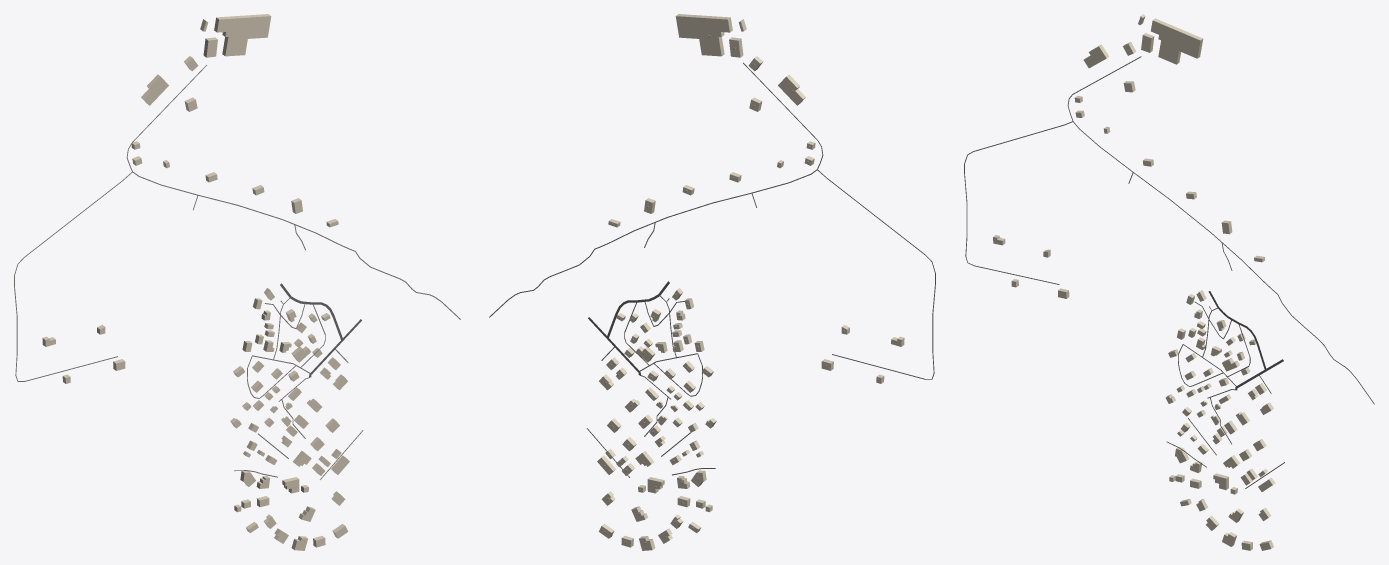
File: historic-palestine-13_34_3550_3289.glb
The picture shows the model from 3 angles, left to right: view 1: azimuth 30°, elevation 25°; view 2: azimuth 150°, elevation 25°; view 3: azimuth 330°, elevation 25°; orthographic projection. The views are drawn at different scales.
Parts seen in each view (by area): view 1: Building_.078, Road .003; view 2: Building_.078, Road .003; view 3: Building_.078, Road .003.
Part boxes in pixels (box(x1,y1,x2,y2)): Building_.078: box(214, 14, 271, 56); Road .003: box(126, 65, 460, 319); Building_.078: box(675, 14, 732, 56); Road .003: box(489, 62, 823, 317); Building_.078: box(1151, 18, 1203, 64); Road .003: box(1067, 56, 1374, 404).
Size of the model in its own units: 651 by 771 by 8.7.
